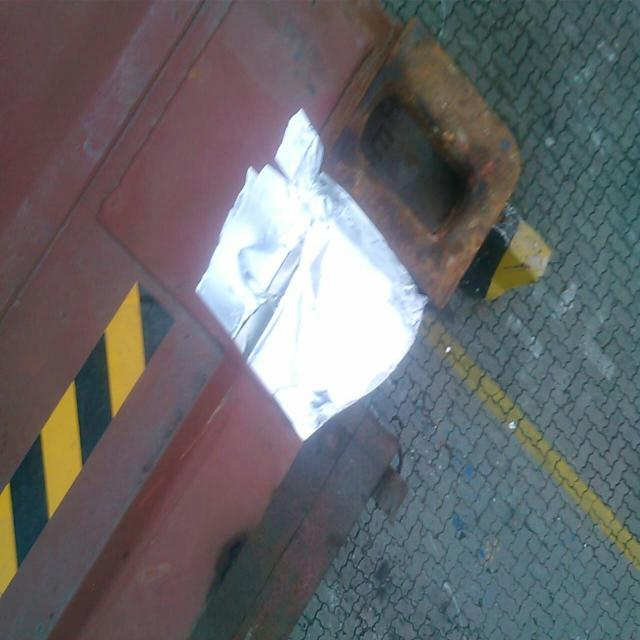rust: (315, 19, 526, 305)
